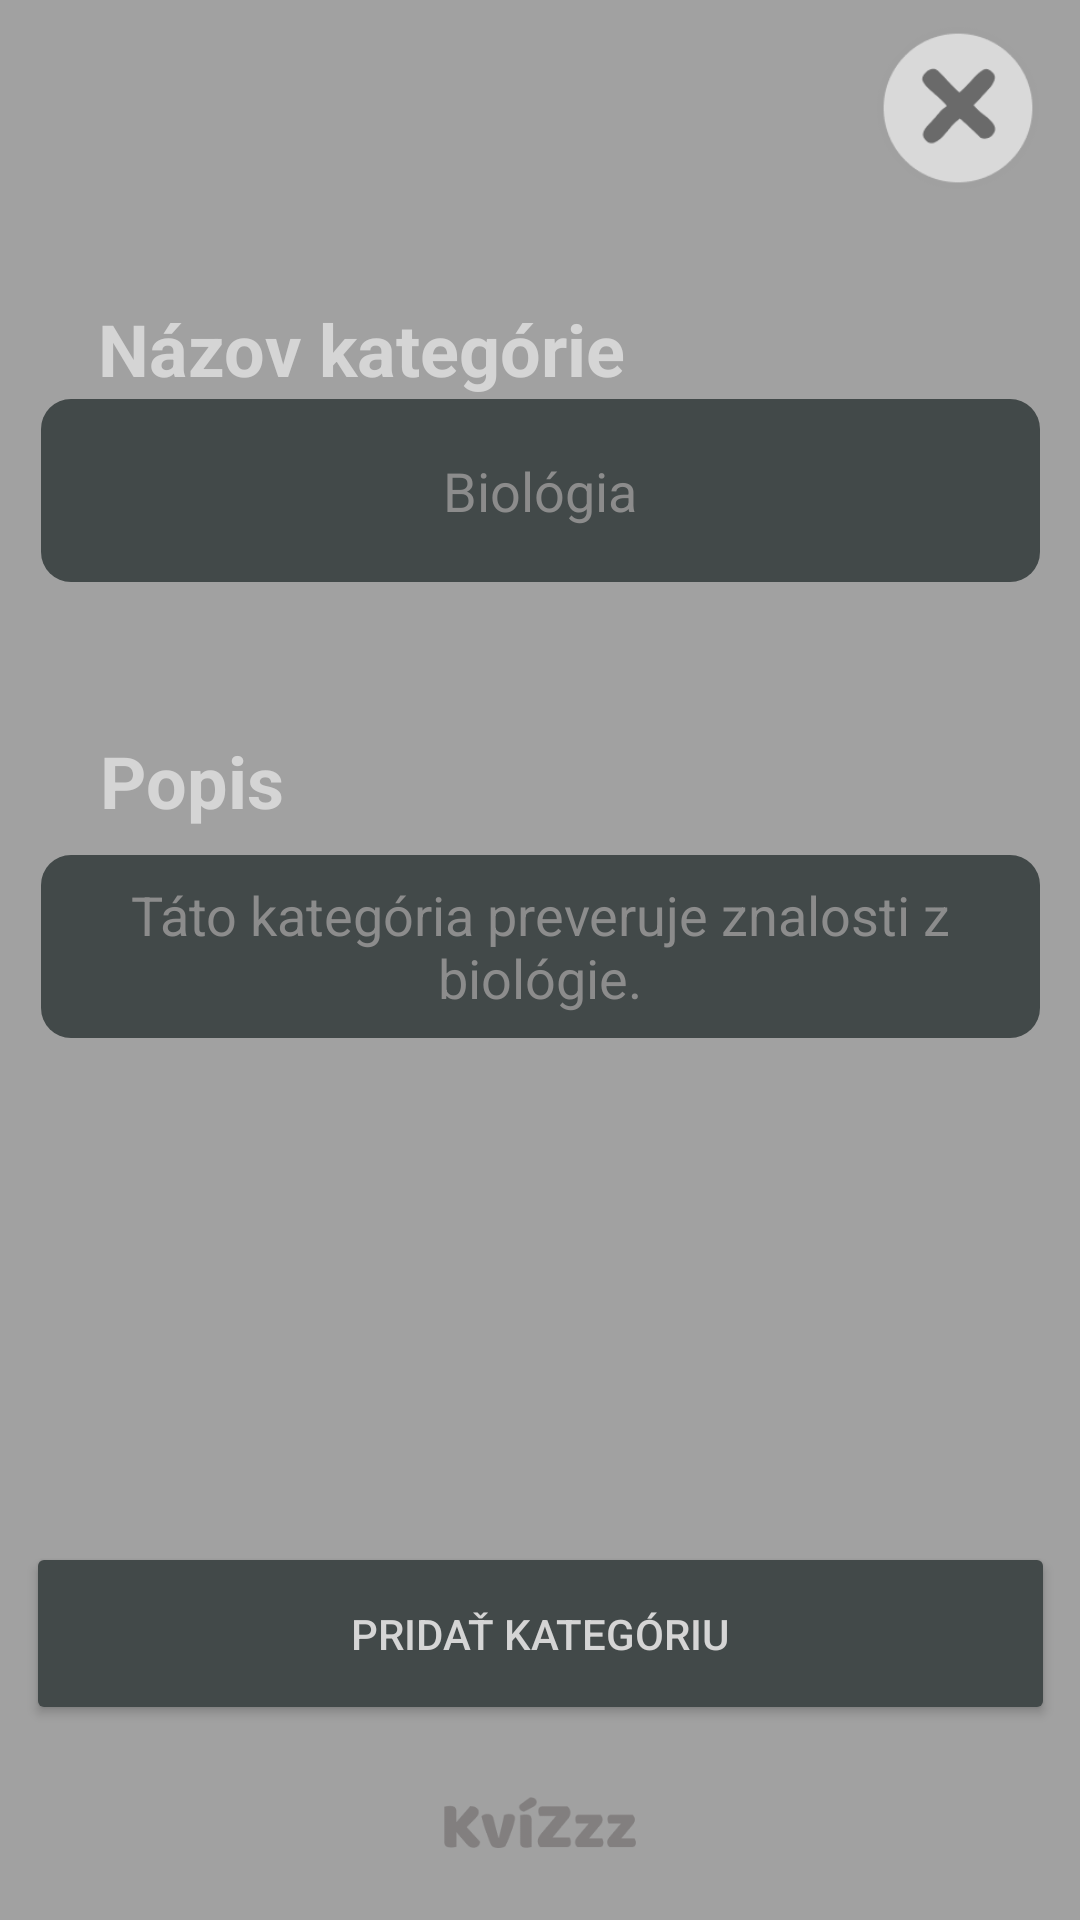

Icons on this 1080*1920 Android screen, each with the point to tap as (x=x, y=y):
exit: (x=958, y=108)
